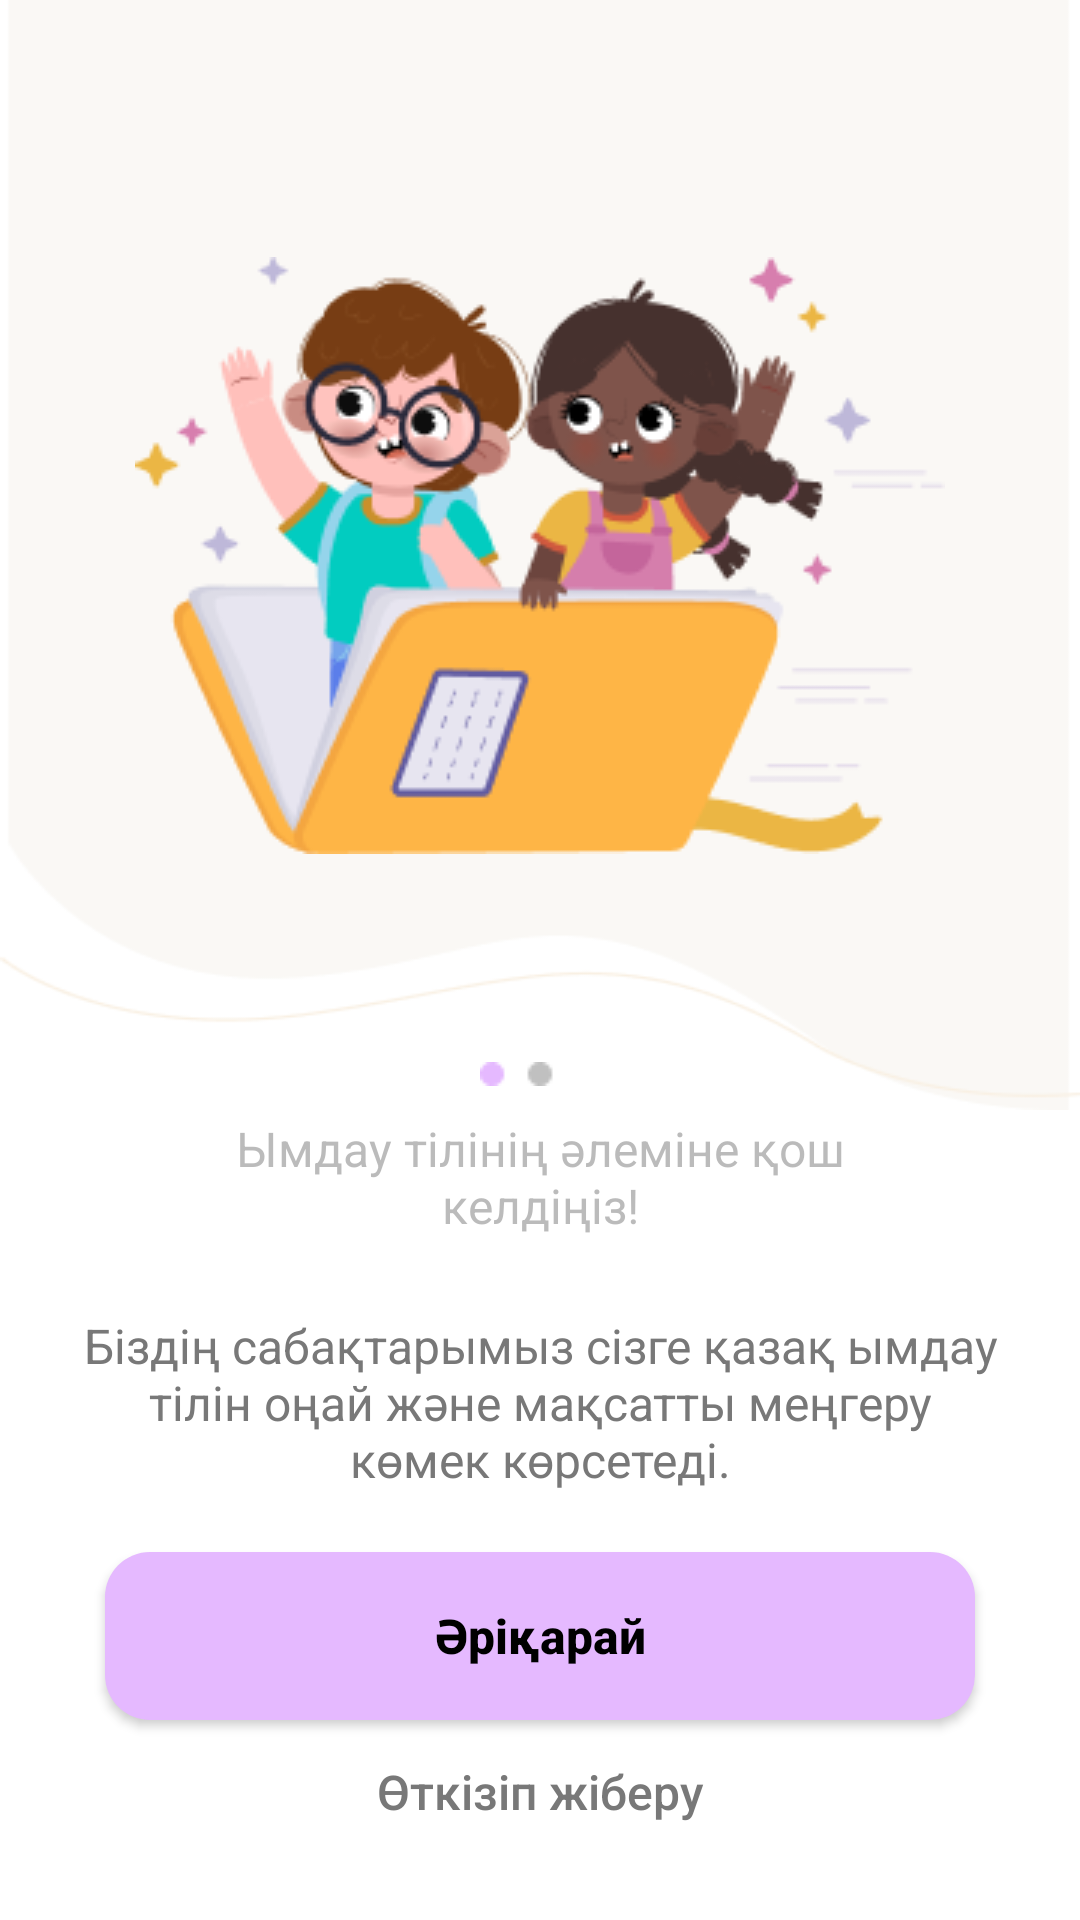

Icons on this 1080x1920 Android screen, each with its box as (x1, y1, x2, y2):
onboard slider: (480, 1062, 552, 1086)
